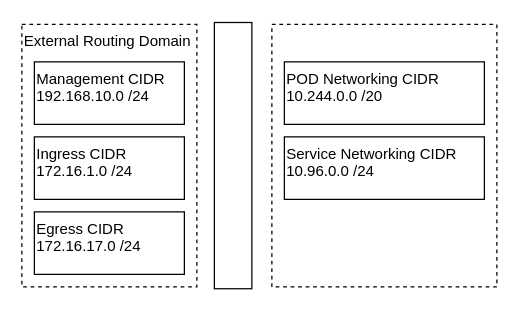
Image size: 519x310. Some labels were removed from this diagram. Here are the shapes that lost their labels. From the top down, the box of each, then its label:
(213, 21, 252, 289): Network Address Translation
(271, 23, 497, 287): Cluster Internal Routing Domain
